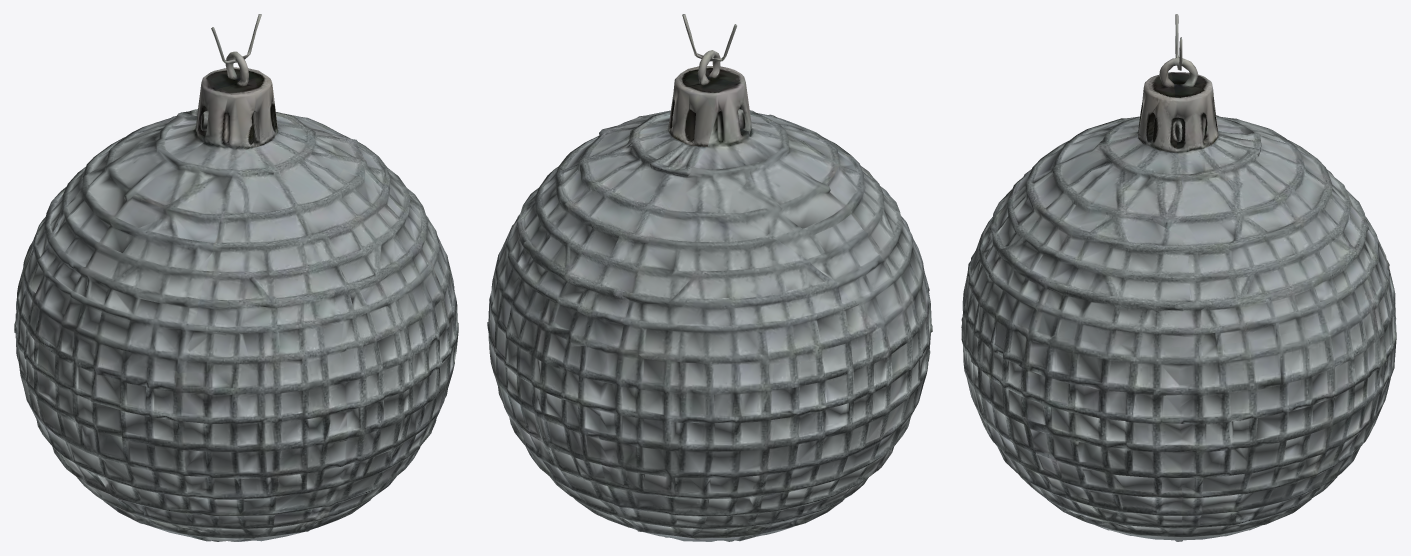
Rendered from iblo-bola.12bf1507.glb.
The picture shows the model from 3 angles, left to right: view 1: azimuth 30°, elevation 25°; view 2: azimuth 150°, elevation 25°; view 3: azimuth 270°, elevation 25°; orthographic projection.
Visible parts, largest first — view 1: tripo_node_654e3bcf-fcb8-482c-b488-7ff3aa170f9b; view 2: tripo_node_654e3bcf-fcb8-482c-b488-7ff3aa170f9b; view 3: tripo_node_654e3bcf-fcb8-482c-b488-7ff3aa170f9b.
Boxes of the visible parts, x1,y1,x2,y2 form: tripo_node_654e3bcf-fcb8-482c-b488-7ff3aa170f9b: [14, 14, 458, 541]; tripo_node_654e3bcf-fcb8-482c-b488-7ff3aa170f9b: [487, 14, 932, 541]; tripo_node_654e3bcf-fcb8-482c-b488-7ff3aa170f9b: [961, 14, 1396, 541].
Size of the model in its own units: 0.7933 by 0.9998 by 0.7912.
1 material, 1 textured.
